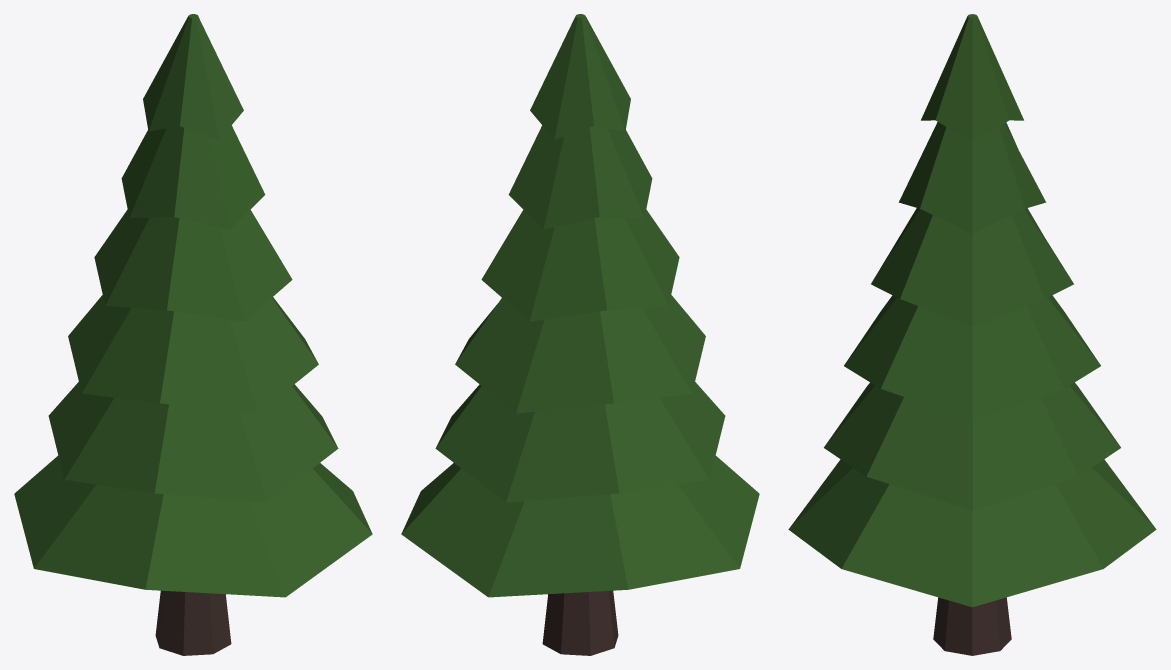
Rendered from pine tree.fbx.
3 renders of one model, left to right at view 1: azimuth 30°, elevation 25°; view 2: azimuth 150°, elevation 25°; view 3: azimuth 270°, elevation 25°, orthographic.
Visible parts, largest first — view 1: pine tree; view 2: pine tree; view 3: pine tree.
Part boxes in pixels (x1,y1,x2,y2): pine tree: [14, 14, 372, 655]; pine tree: [401, 14, 759, 655]; pine tree: [788, 14, 1156, 655].
Size of the model in its own units: 340 by 635 by 340.
